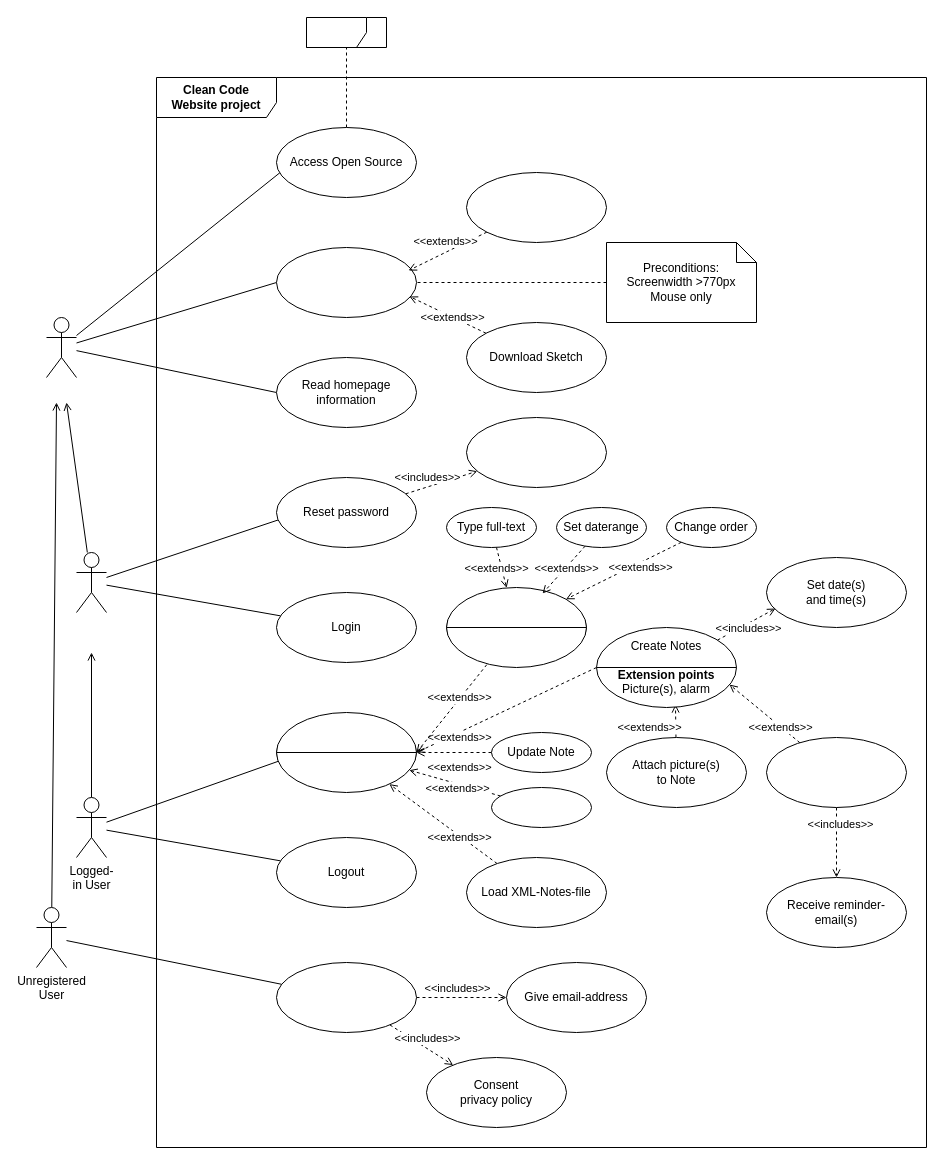
The diagram is 944 pixels wide and 1165 high, and some of its shapes have lost their labels. The box of each missing label's shape, as (x1, y1, x2, y2) in pixels:
Delete Note: (490, 786, 592, 828)
Draw Sketch: (276, 246, 416, 318)
GitHub: (306, 16, 386, 48)
Register: (276, 962, 416, 1032)
Registered User: (76, 552, 106, 612)
Request Reset via Link in email: (466, 416, 606, 488)
Search Notes Extension points Filter: (446, 586, 586, 668)
Set alarm: (766, 736, 906, 808)
Start script drawing Mandelbrot Set: (466, 172, 606, 242)
View own Notes Extension points Manage: (276, 712, 416, 792)
Visitor: (46, 316, 76, 378)
